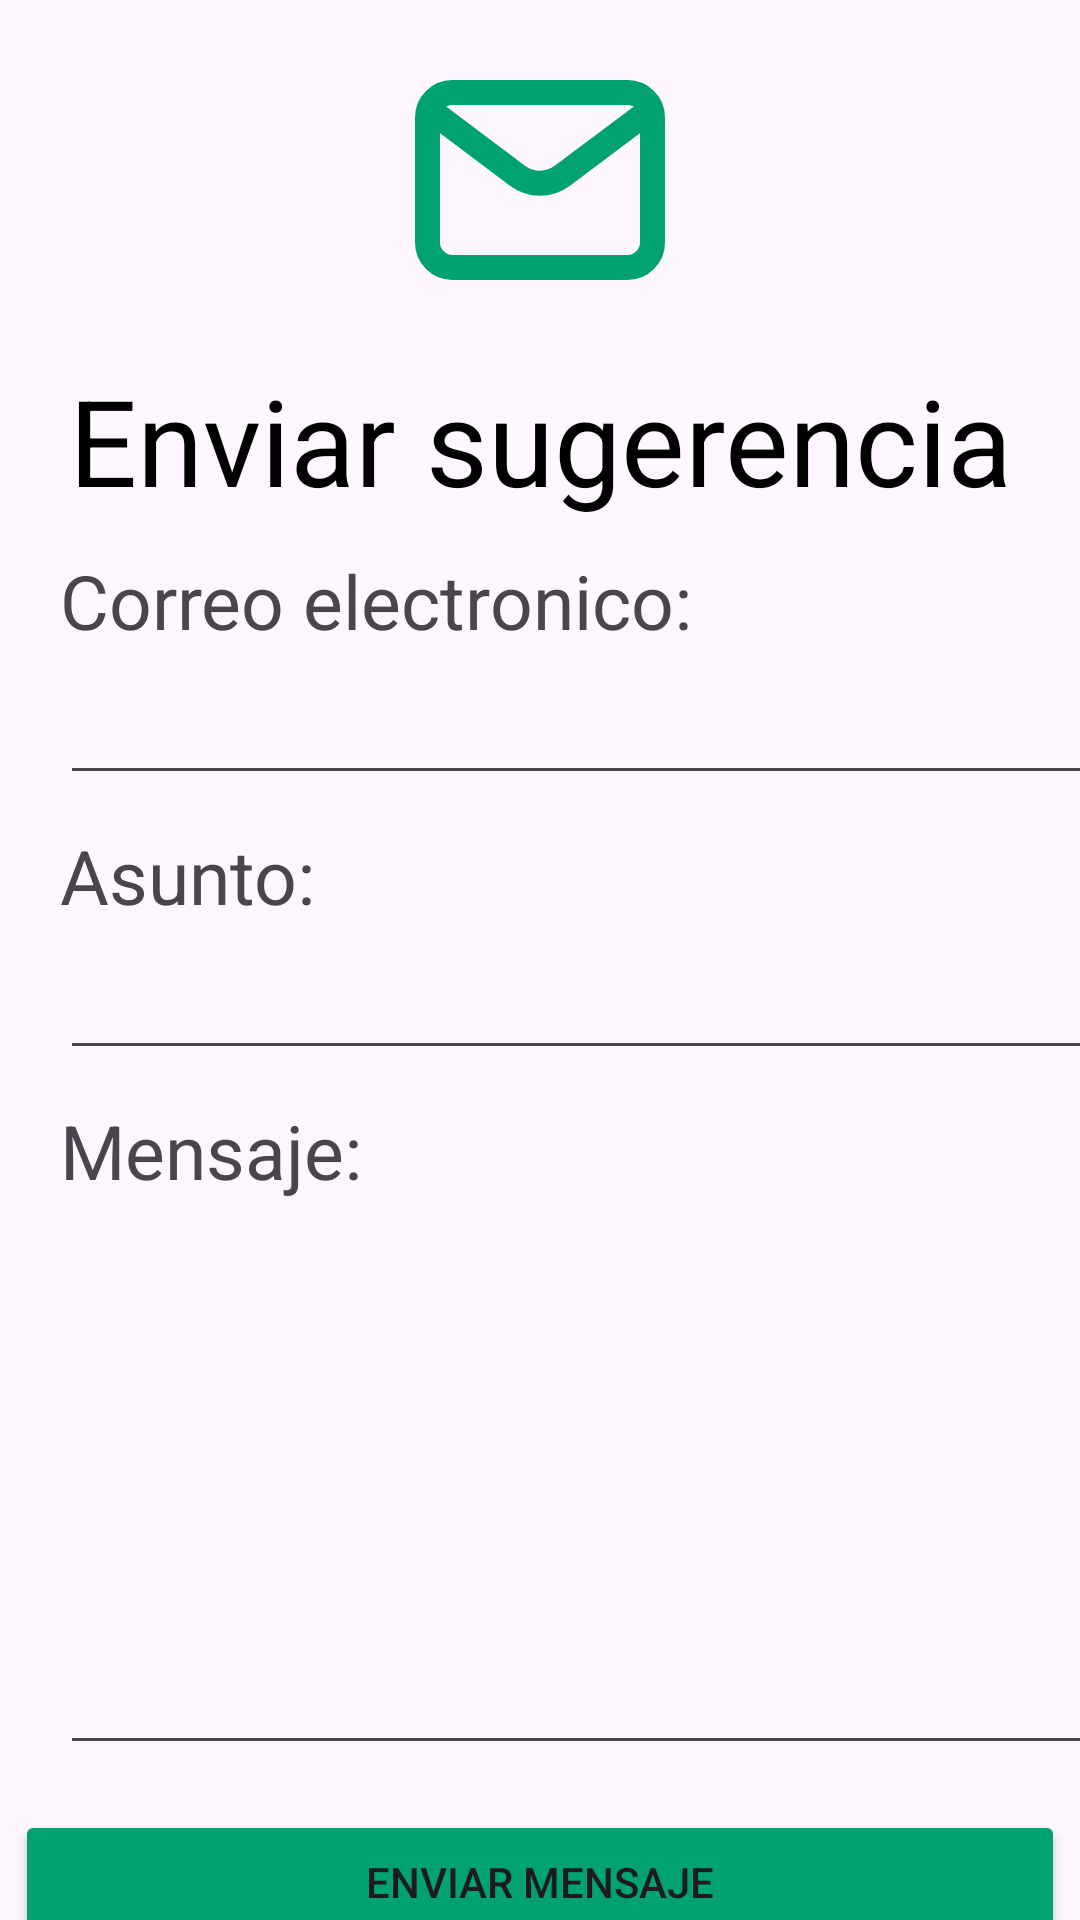

Named icons in this screenshot (1080x1920) and their bounding boxes, (x1, y1, x2, y2):
email: (415, 80, 665, 280)
